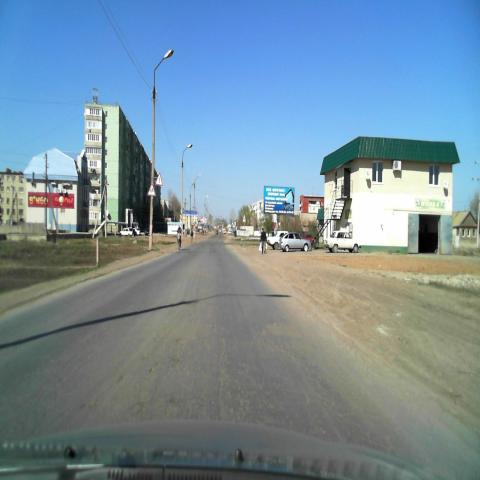2_3_2: (155, 172, 164, 186)
